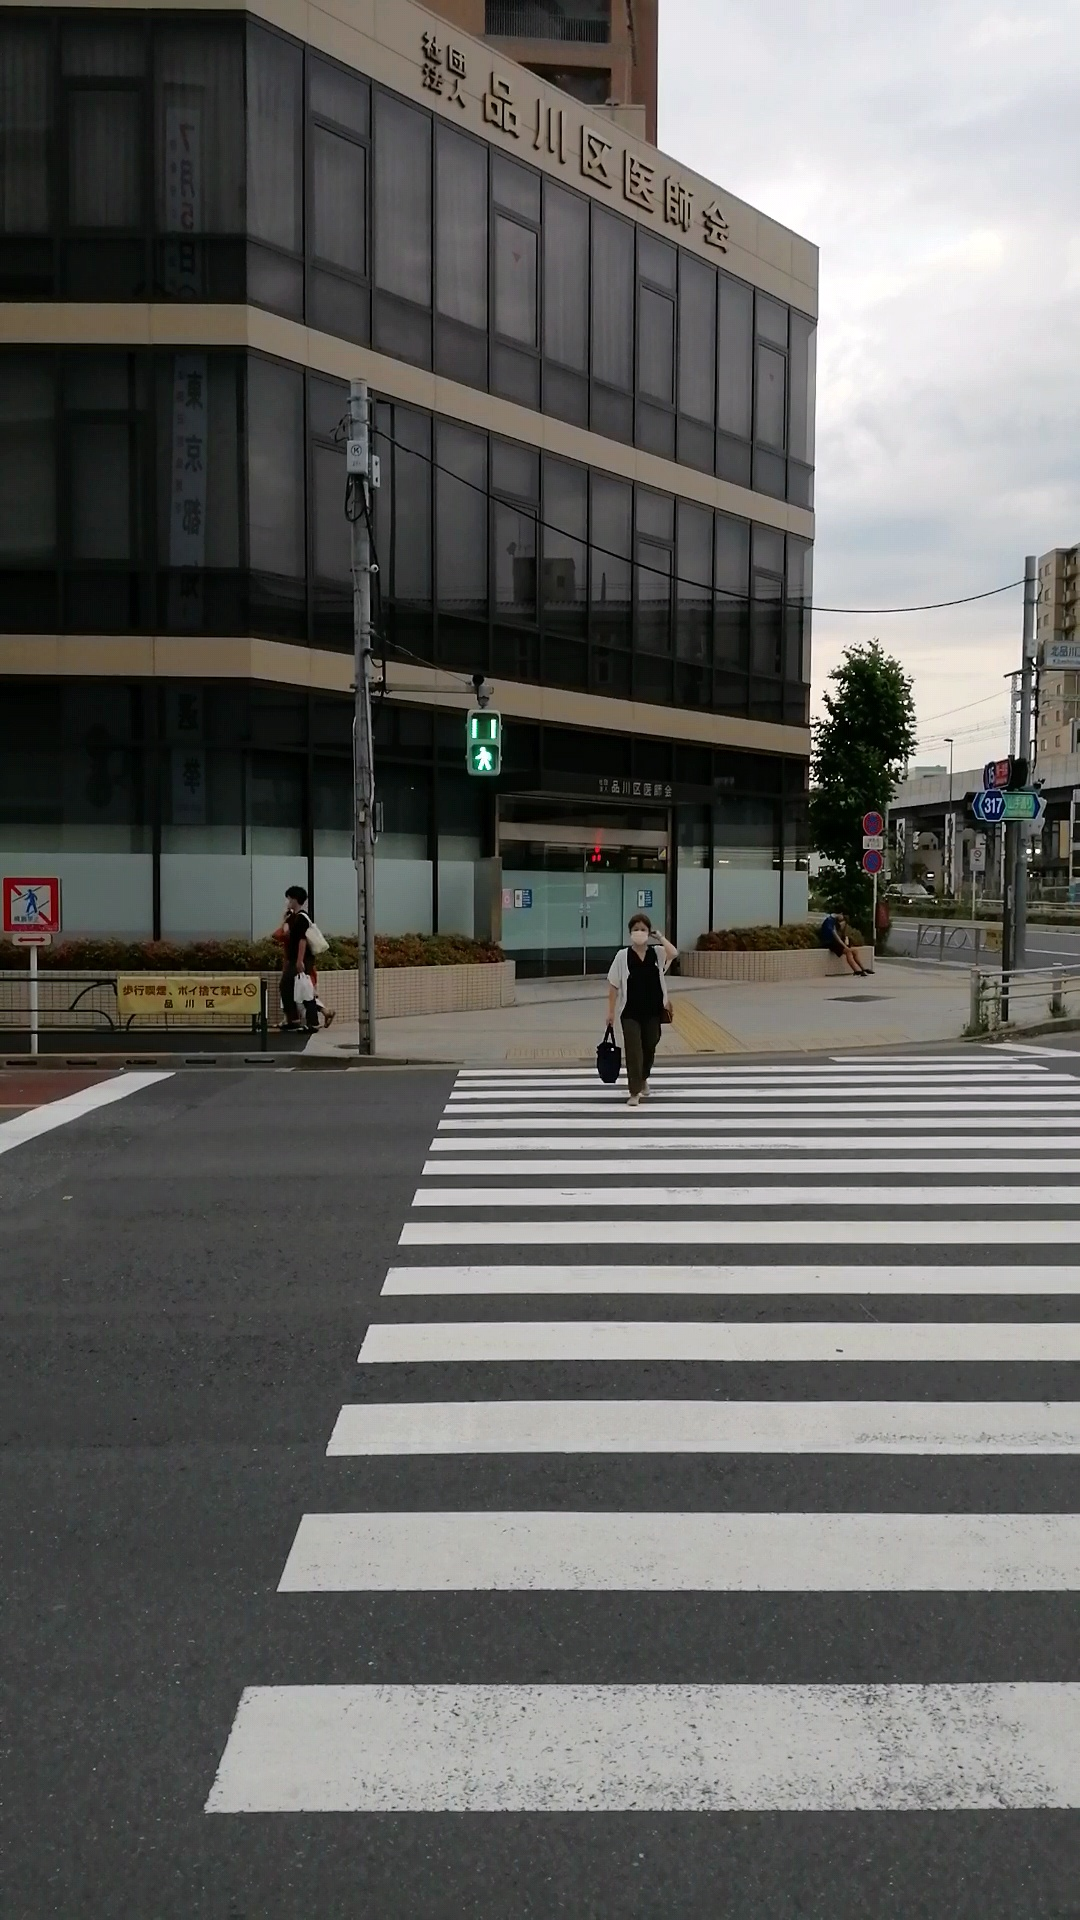green: (465, 708, 501, 777)
